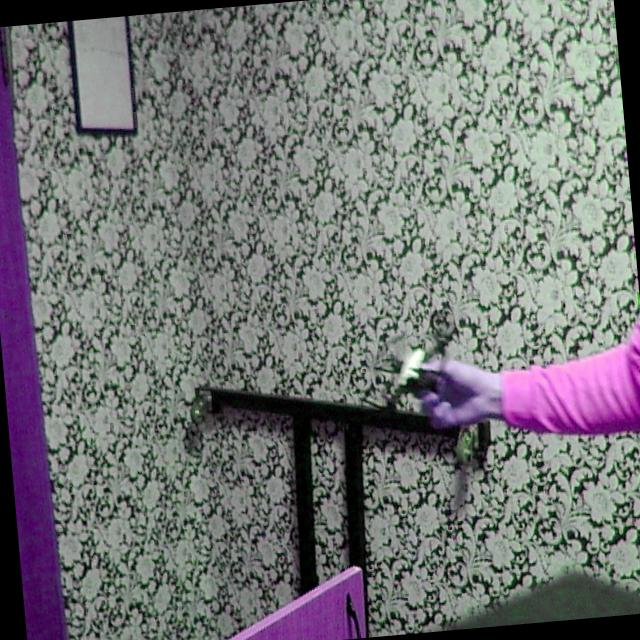drone: (351, 300, 467, 440)
